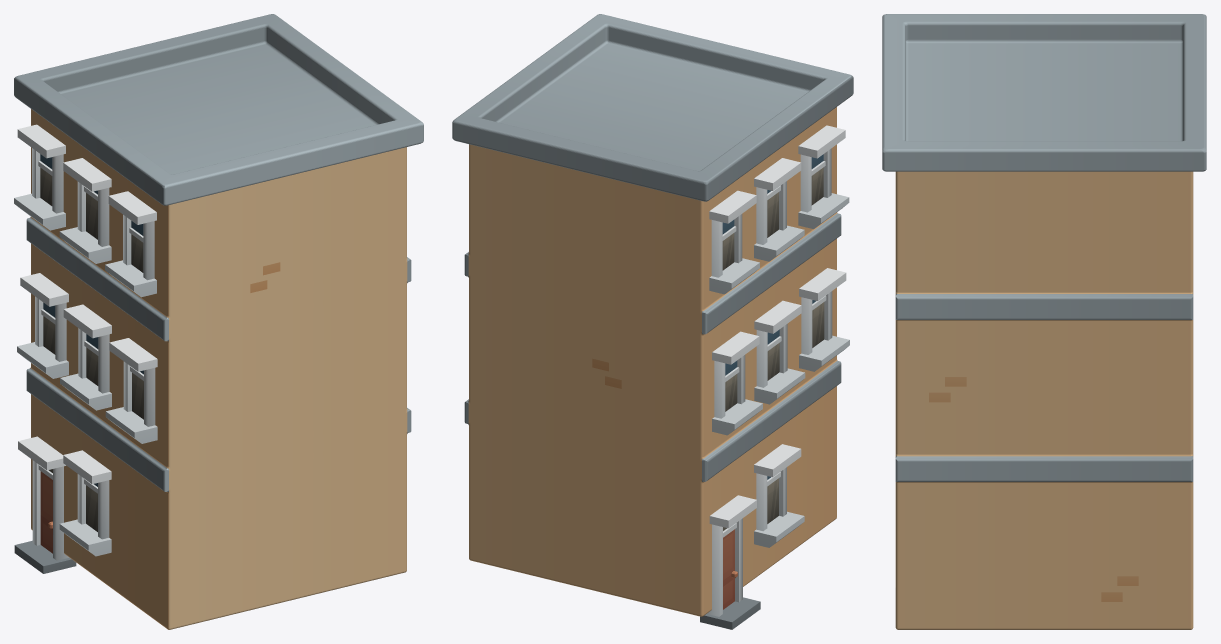
Rendered from crema 2.fbx.
The picture shows the model from 3 angles, left to right: view 1: azimuth 30°, elevation 25°; view 2: azimuth 150°, elevation 25°; view 3: azimuth 270°, elevation 25°; orthographic projection. The views are drawn at different scales.
Parts seen in each view (by area): view 1: Cube.027; view 2: Cube.027; view 3: Cube.027.
Boxes of the visible parts, x1,y1,x2,y2 form: Cube.027: [14, 14, 423, 629]; Cube.027: [452, 14, 853, 629]; Cube.027: [882, 14, 1206, 629].
Bounding box in the file's own units: 1369 × 2221 × 1308.
Materials: 1 (1 with a texture image).
